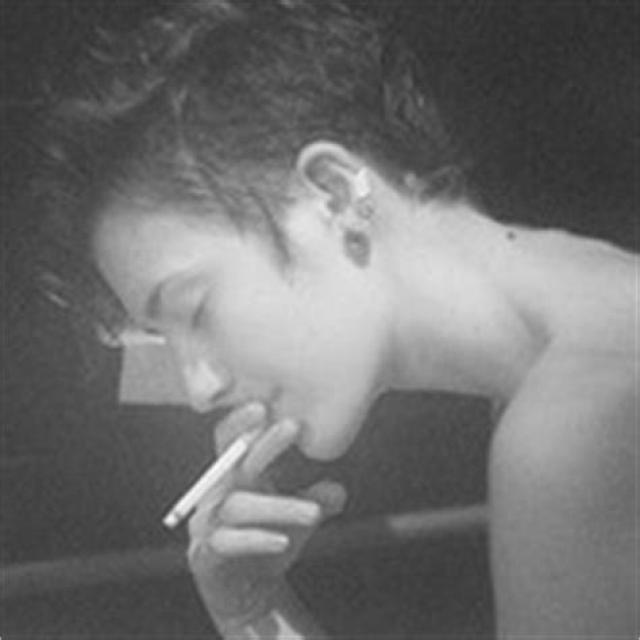smoking: (151, 422, 276, 528)
